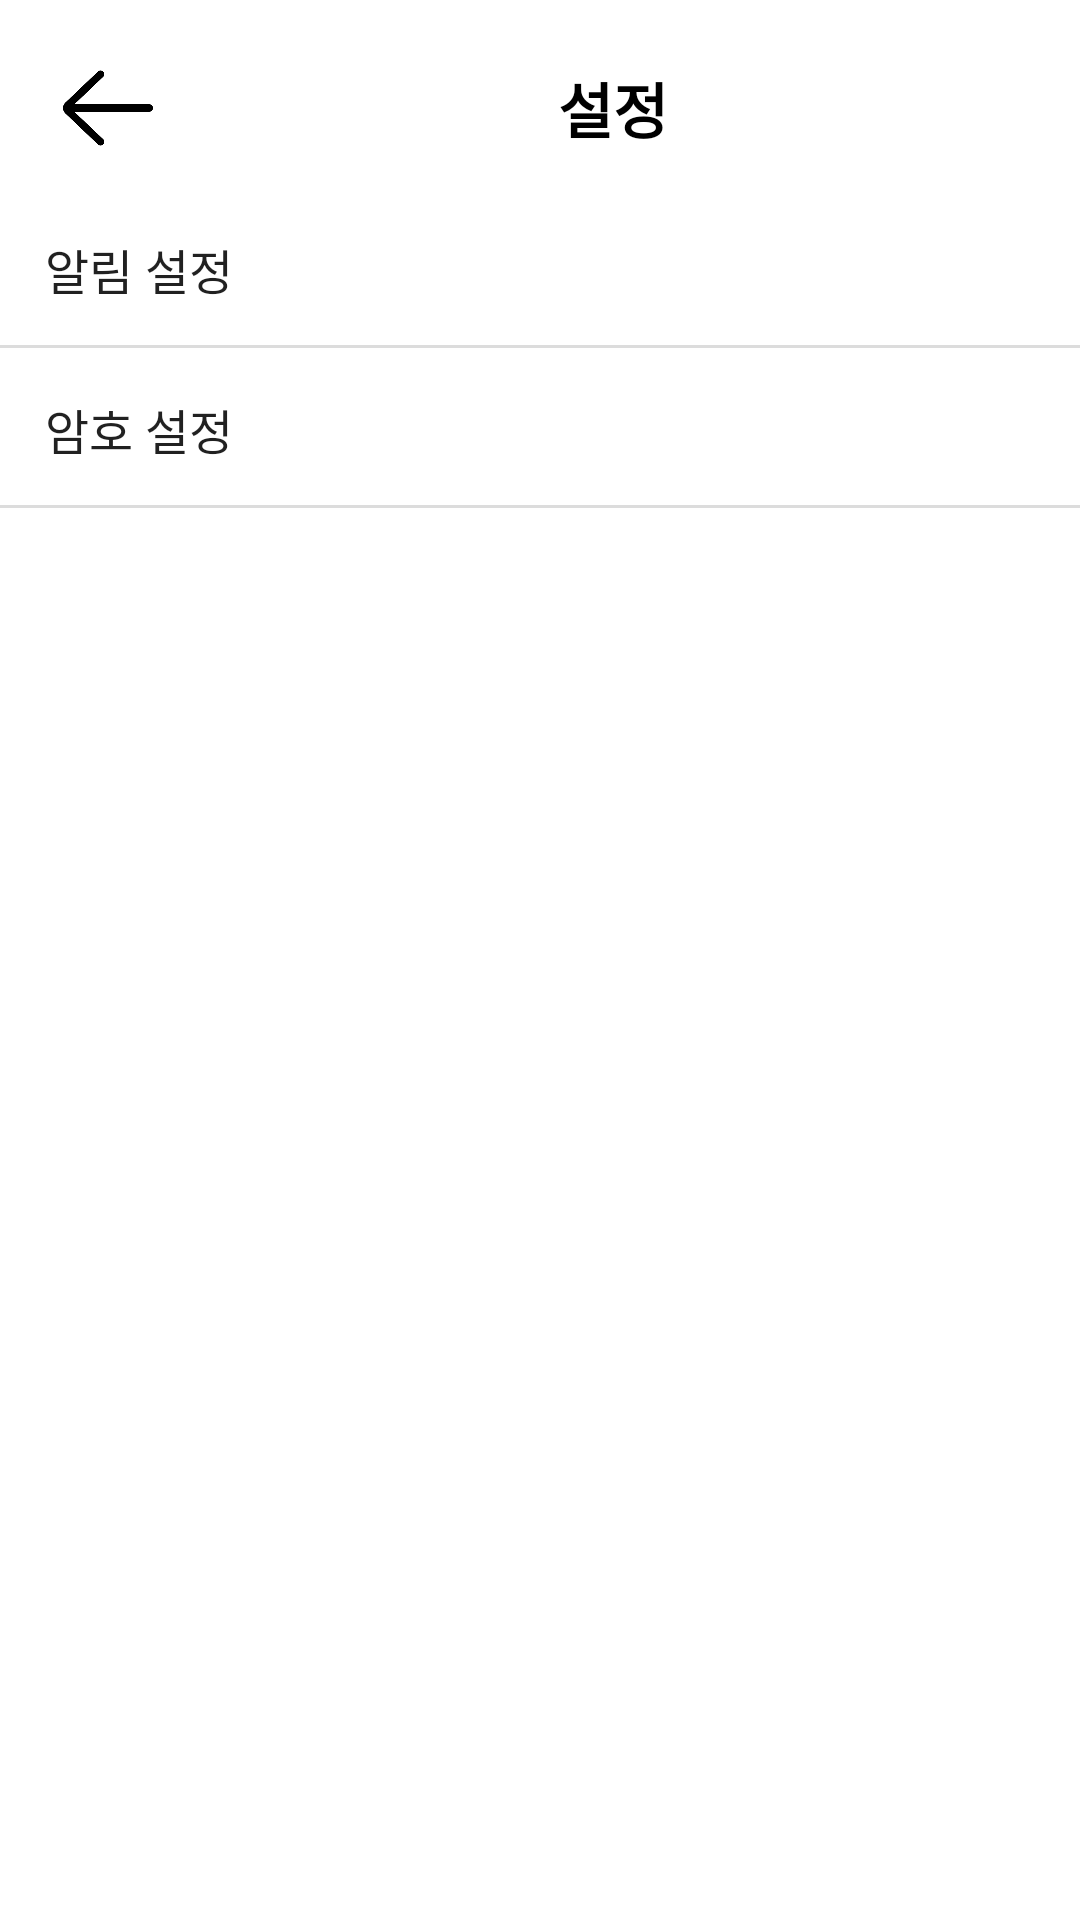

Named icons in this screenshot (1080 x 1920) and their centers, (x,y):
arrow: (108,108)
